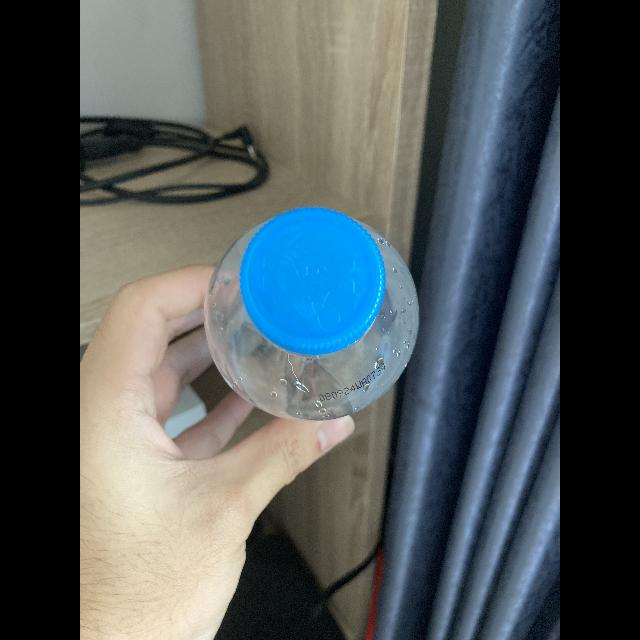plastic_bottle: (200, 202, 424, 424)
plastic_bottle_cap: (242, 209, 388, 363)
